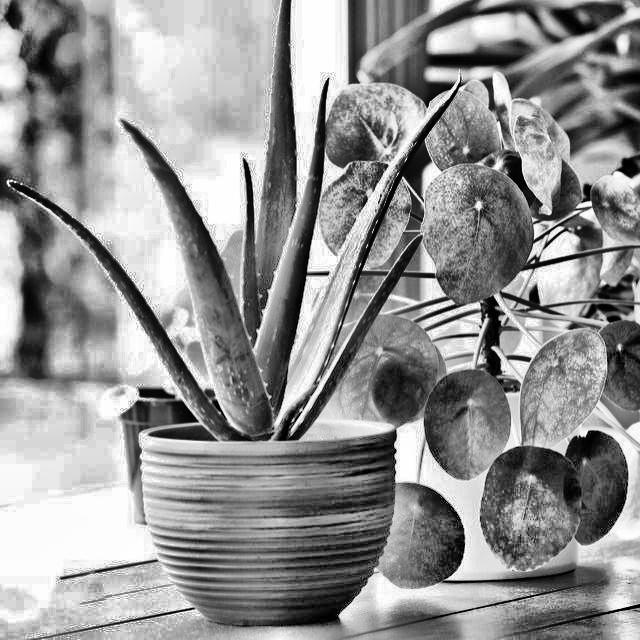plants: (75, 48, 382, 616), (386, 84, 639, 552)
